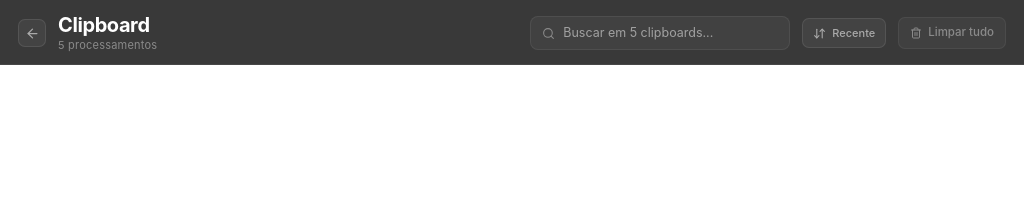
it: ClipboardToolbar › renders the sort dropdown with aria-expanded state
Click the button with aria-label "Ordenar": (844, 33) [802, 18, 886, 48]
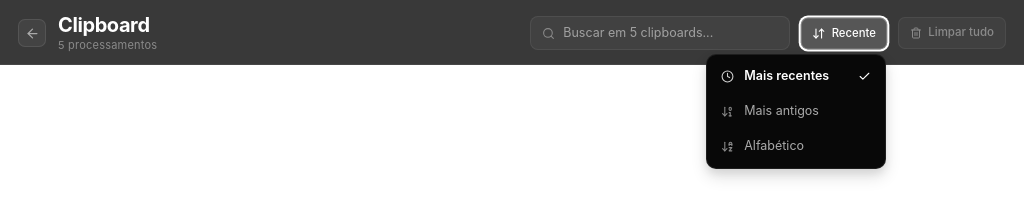
Now the button with aria-label "Ordenar" is expanded, box [801, 17, 888, 49]
Now the menu is shown, box [706, 54, 886, 169]
